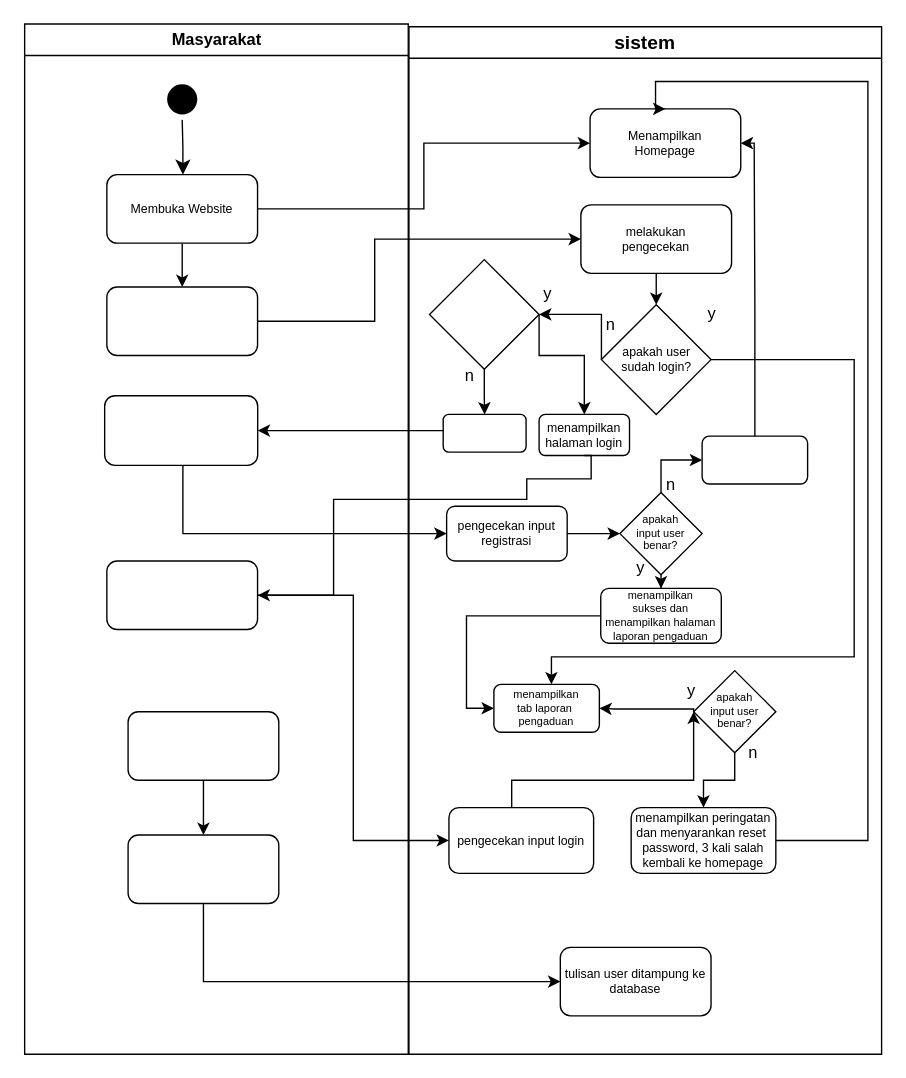
Some shapes in this 906 by 1078 pixel diagram are drawn without their labels. The box of each missing label's shape, as (x1, y1, x2, y2) in pixels:
apakah mempunyai akun?: (428, 258, 539, 369)
membuka tab laporan pengaduan: (105, 286, 258, 356)
menampilkan halaman registrasi: (442, 413, 526, 452)
menampilkan peringatan 3 kali salah tampilkan homepage: (701, 435, 808, 484)
submit: (127, 834, 279, 904)
user melakukan input login: (105, 560, 258, 630)
user melakukan input registrasi: (103, 394, 258, 465)
user menulis laporan: (127, 710, 279, 780)
